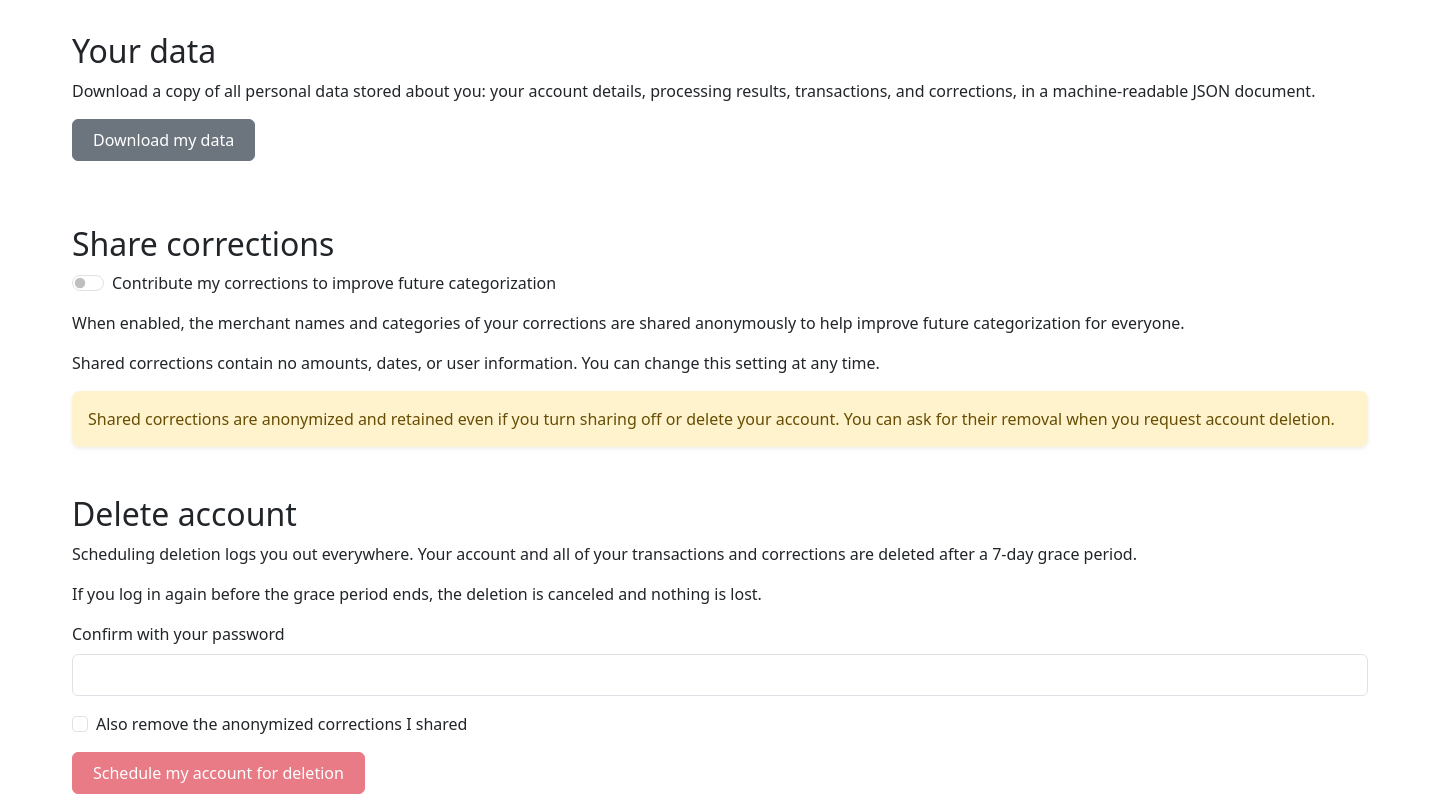
Settings.vue › disables the deletion button until a password is entered
The width and height of the screenshot is (1440, 810).
(page scrolled)
Check: the submit button is disabled, box [72,752,365,794]
Type "password-123456" into the password field with id "deleteAccountPassword" at coordinates (720, 675), box [72,654,1368,696]
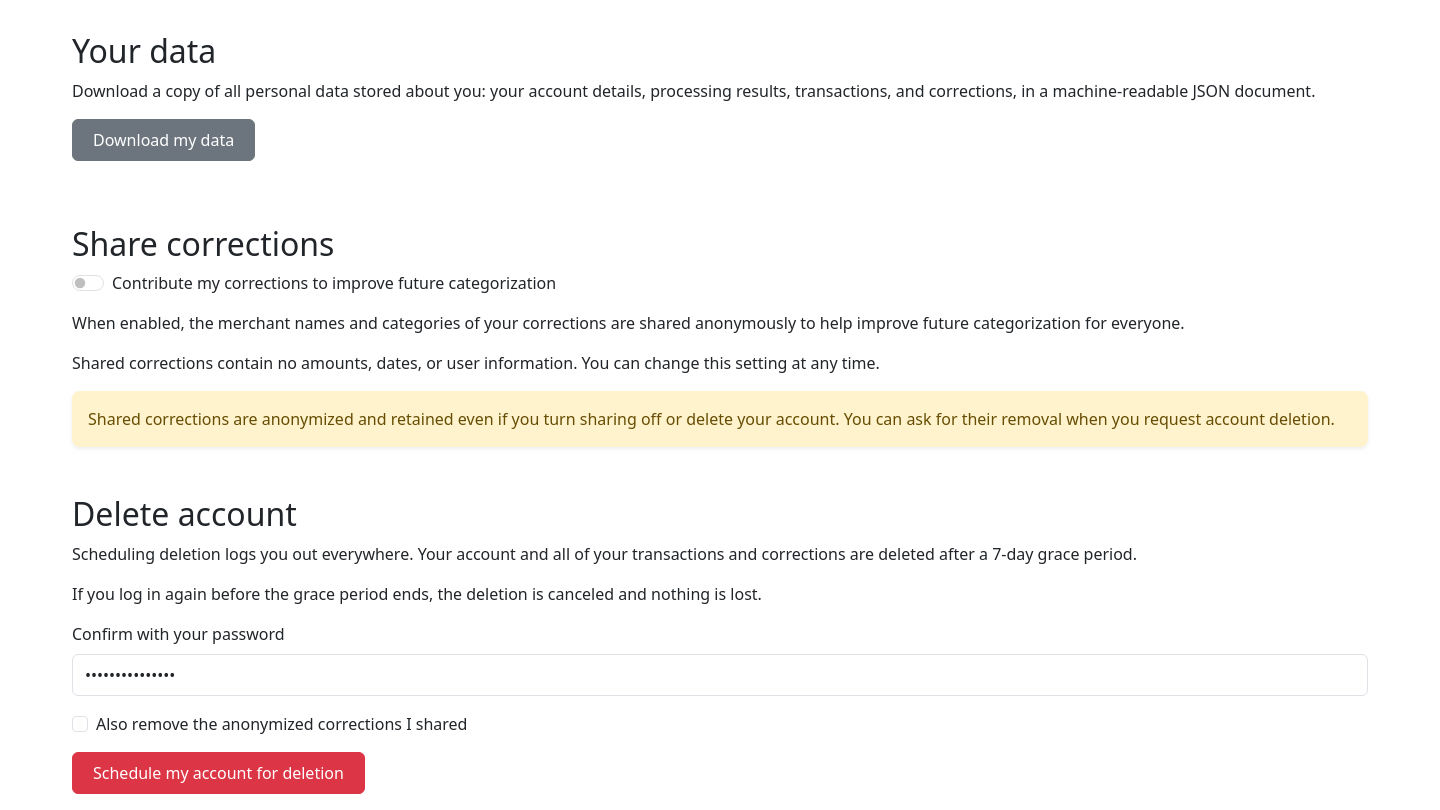
Check: the submit button is enabled, box [72,752,365,794]
